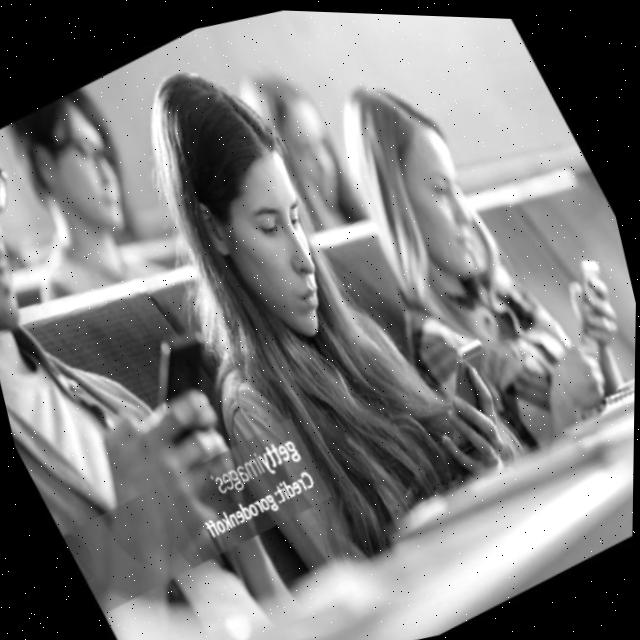phone: (128, 311, 249, 448), (411, 324, 532, 461), (546, 241, 636, 348)
